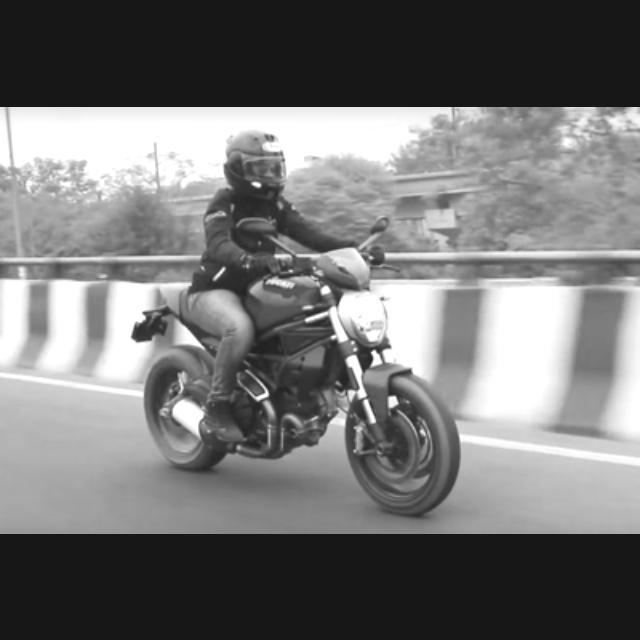With Helmet: (215, 126, 292, 204)
